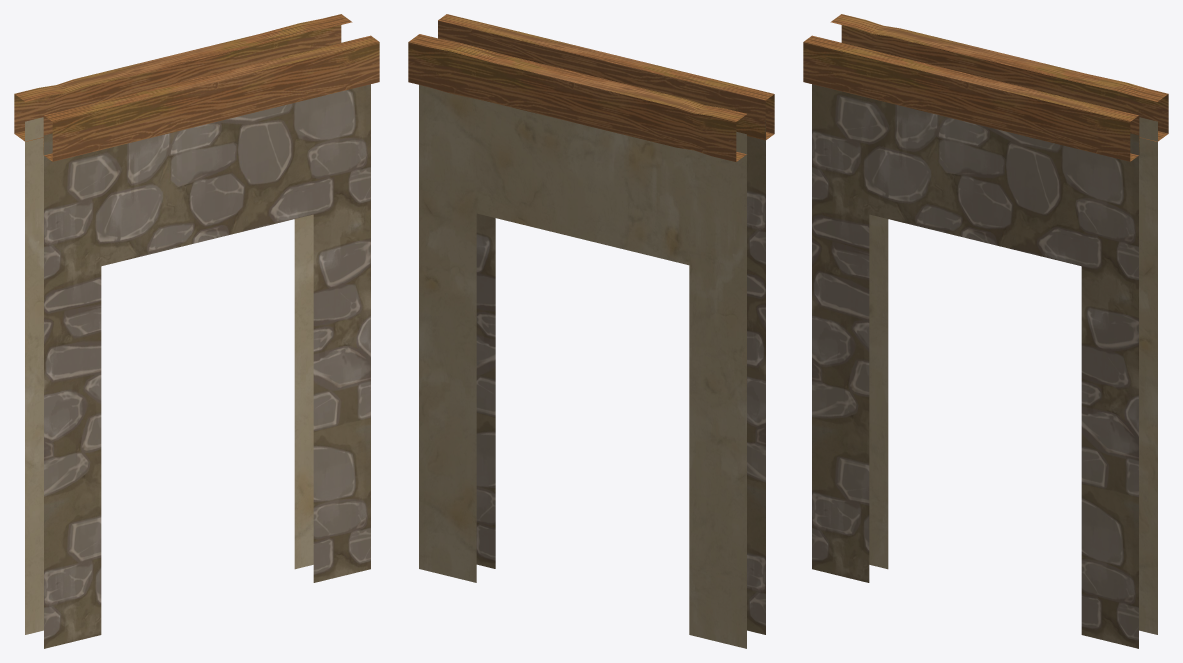
File: Wall_UnevenBrick_Door_Flat.gltf
The picture shows the model from 3 angles, left to right: view 1: azimuth 30°, elevation 25°; view 2: azimuth 150°, elevation 25°; view 3: azimuth 330°, elevation 25°; orthographic projection.
Parts seen in each view (by area): view 1: Wall_UnevenBrick_Door_Flat; view 2: Wall_UnevenBrick_Door_Flat; view 3: Wall_UnevenBrick_Door_Flat.
Part boxes in pixels (x1,y1,x2,y2): Wall_UnevenBrick_Door_Flat: (14, 14, 379, 648); Wall_UnevenBrick_Door_Flat: (408, 14, 774, 648); Wall_UnevenBrick_Door_Flat: (803, 14, 1168, 648).
Bounding box in the file's own units: 2 × 3.12 × 0.4065.
3 materials, 3 textured.
